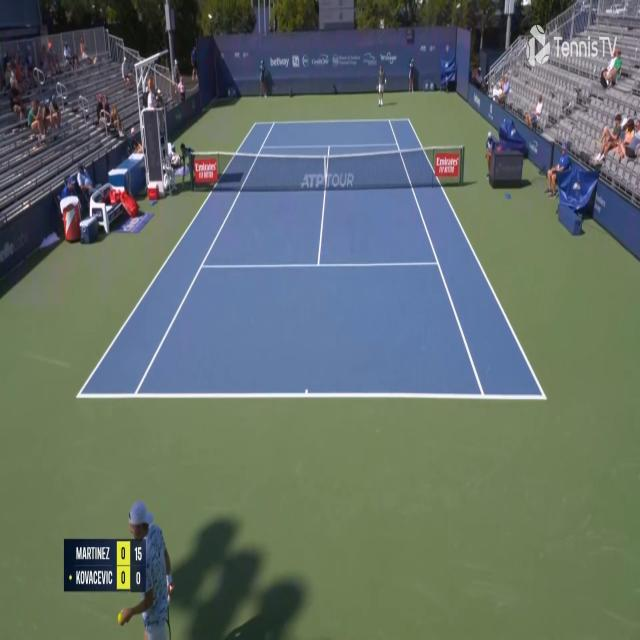tennis-player: (118, 498, 178, 639), (376, 62, 386, 106)
